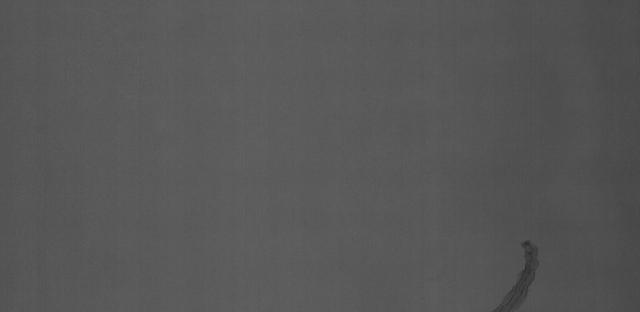water_spot: (490, 233, 547, 312)
